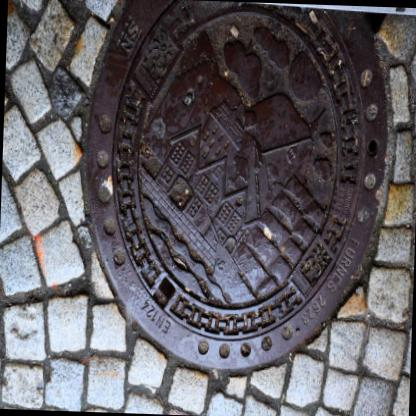manholes: (55, 0, 416, 405)
